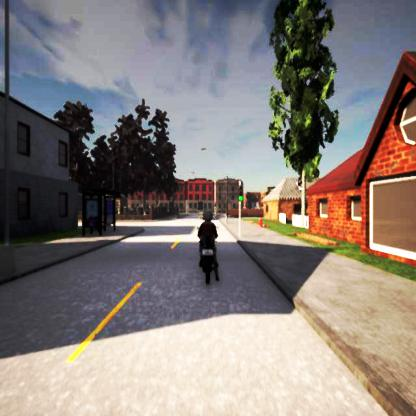motobike: (198, 209, 221, 284)
